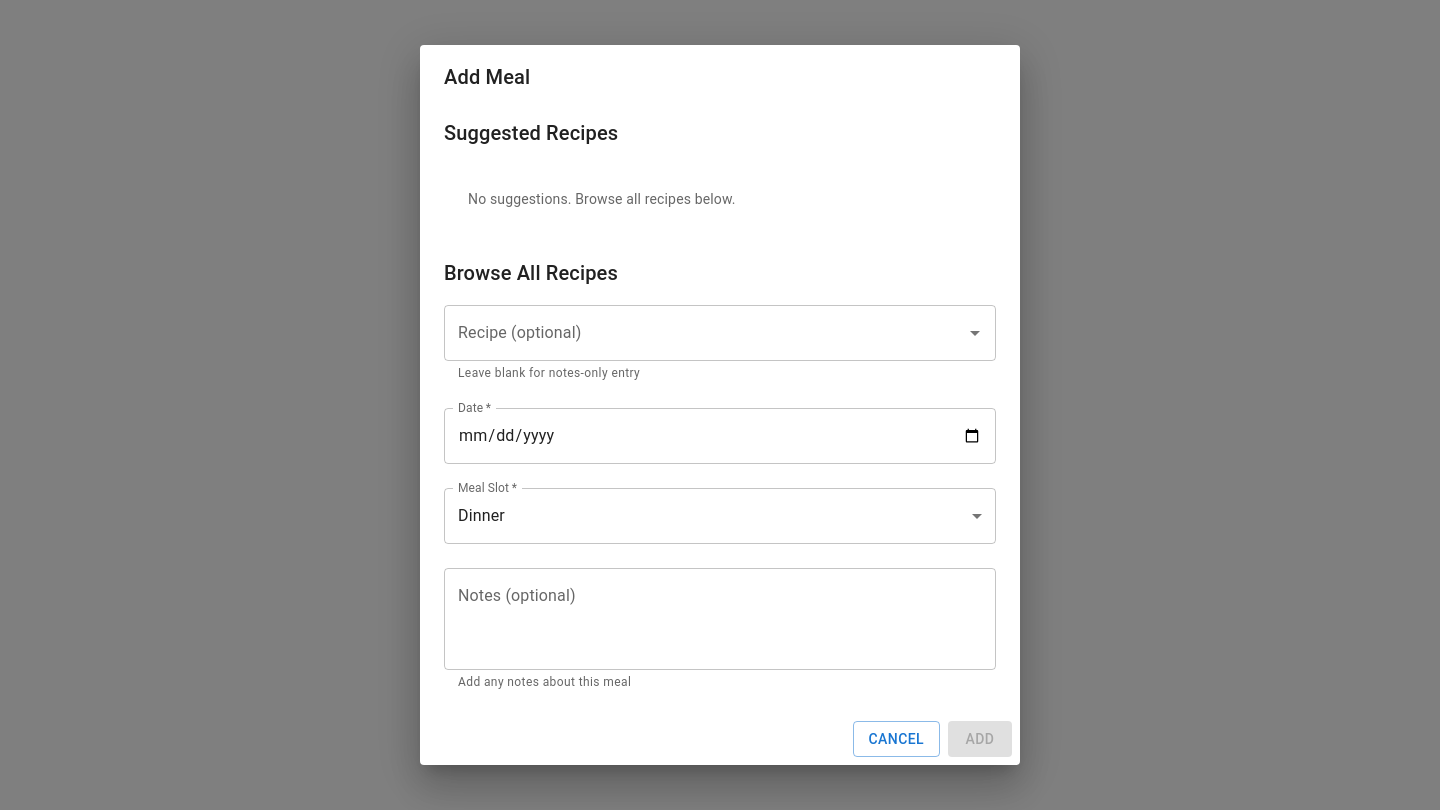
Test case: AddCalendarEntryDialog › should enable Add button when date is filled
This screenshot has width=1440, height=810.
Type "2026-01-20" into the date field labelled "Date *" at (720, 436), box [444,408,996,464]
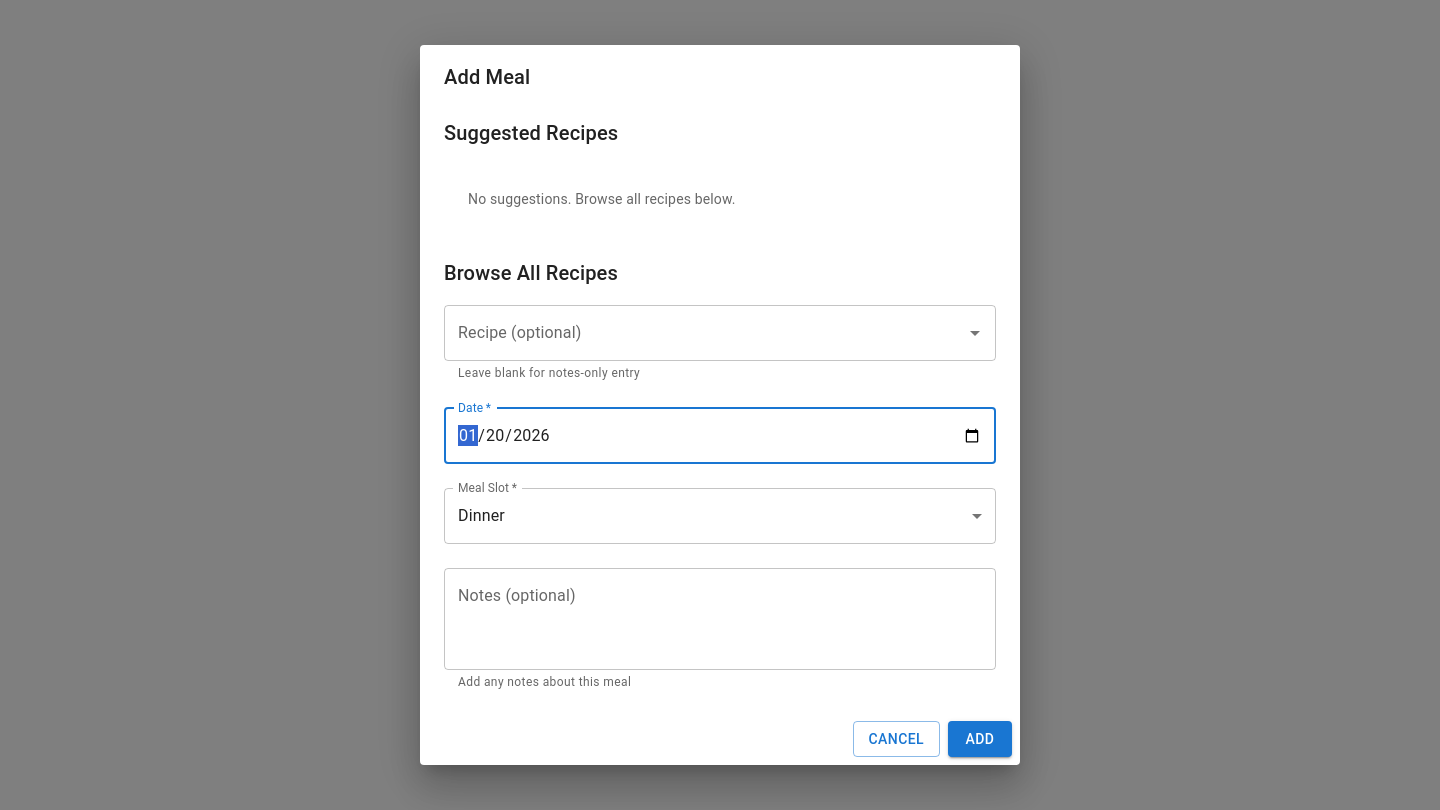
Expected: the button "Add" is enabled, [948,721,1012,757]
